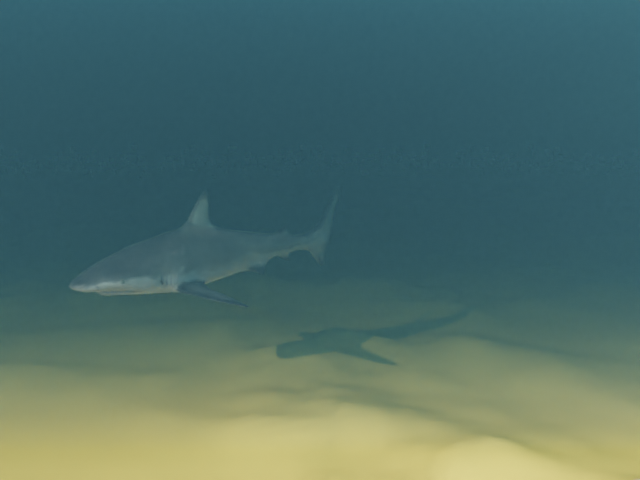Carribean Shark.001: (69, 185, 340, 307)
